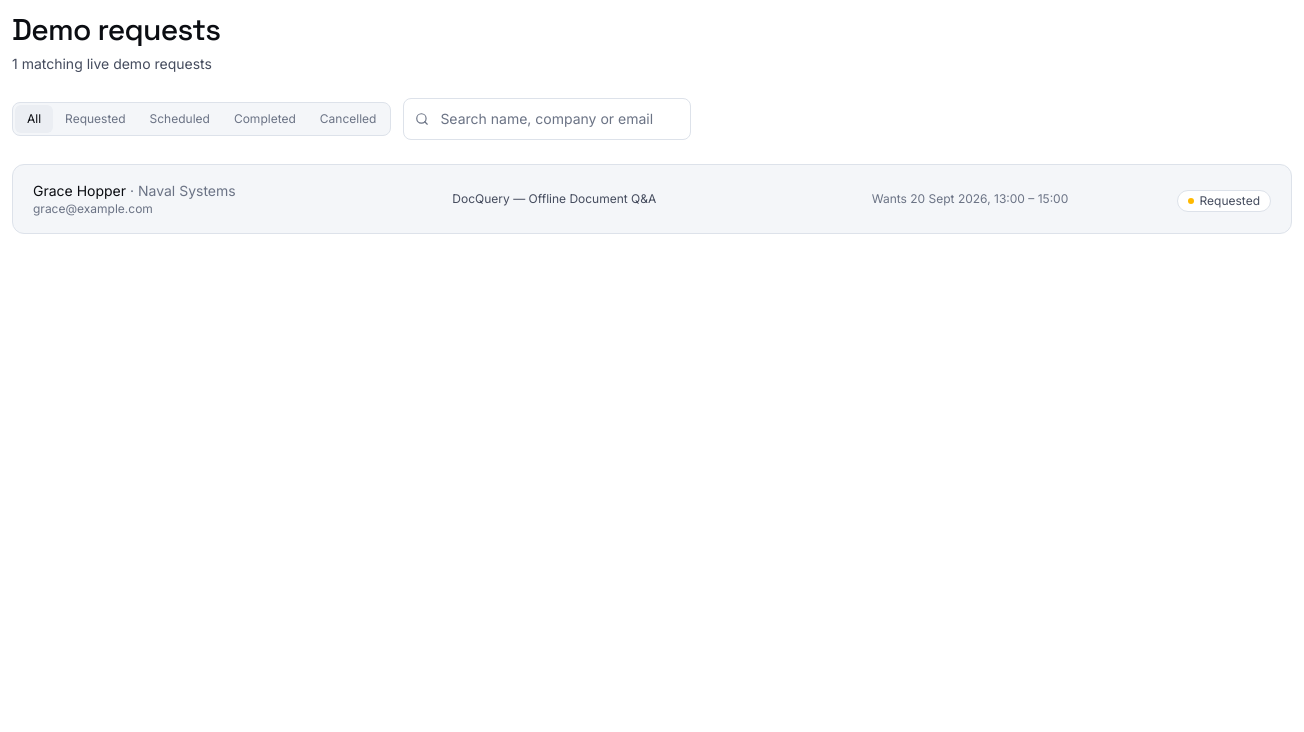
Scenario: admin enquiries and demo requests › shows a demo request with the demo names, not slugs
The image size is (1304, 732).
Click the button "Grace Hopper".
click(652, 199)  # box [13, 165, 1291, 233]
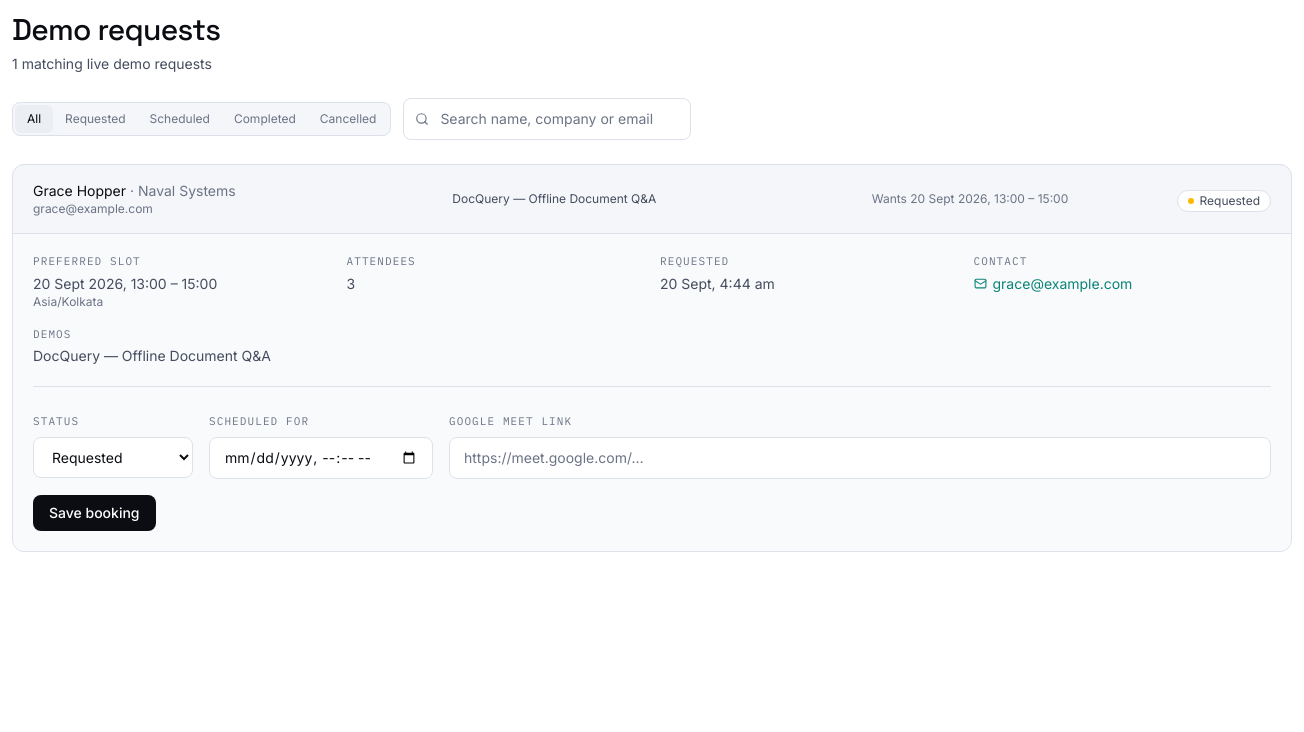
Check: the text "DocQuery — Offline Document Q&A" is shown, box [452, 191, 656, 206]
Check: the button "Save booking" is shown, box [33, 495, 156, 531]
